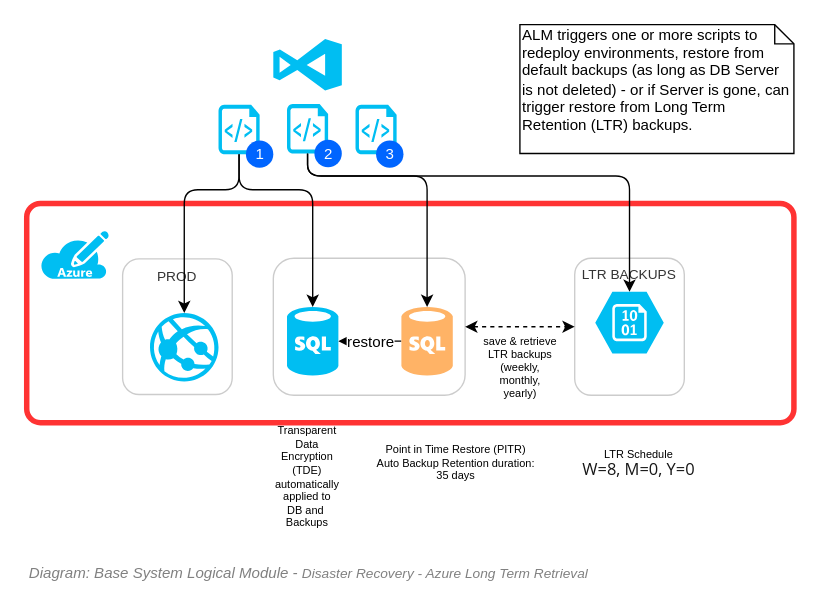
Some shapes in this 819 by 610 pixel diagram are drawn without their labels. The box of each missing label's shape, as (x1, y1, x2, y2) in pixels:
Production Data Environments: (23, 200, 796, 425)
SHARED DATA: (272, 257, 465, 395)
